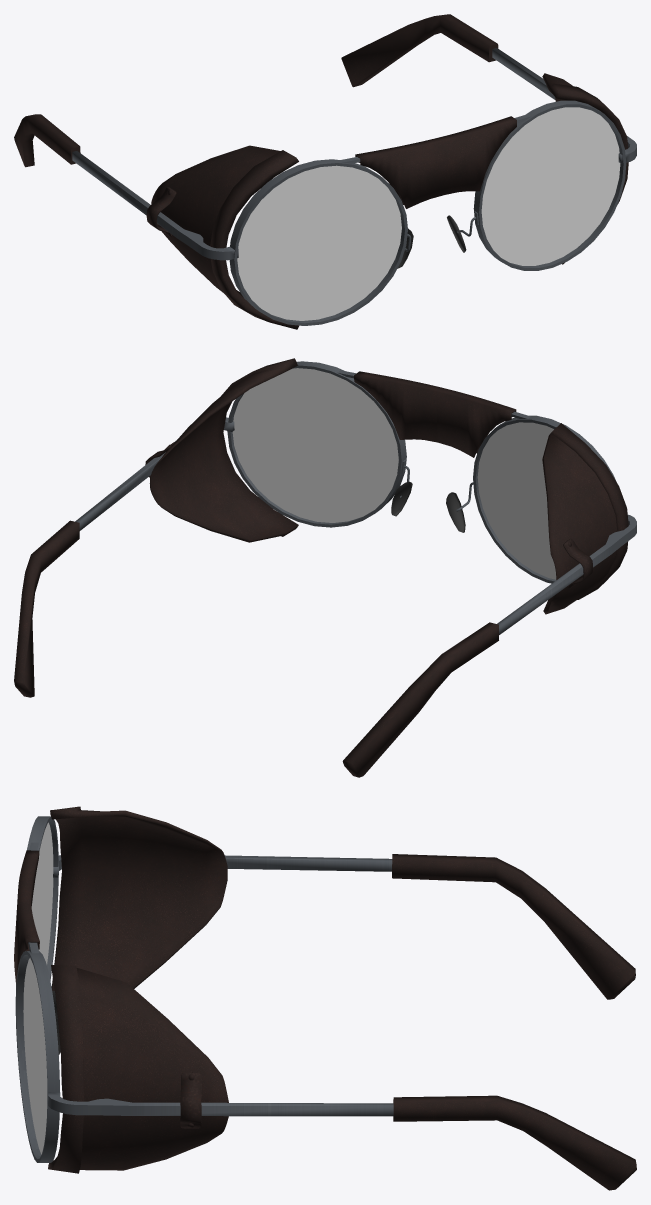
The model's file is glasses_1.glb.
3 renders of one model, top to bottom at view 1: azimuth 30°, elevation 25°; view 2: azimuth 150°, elevation 25°; view 3: azimuth 270°, elevation 25°, orthographic. The views are drawn at different scales.
Visible parts, largest first — view 1: glasses_1; view 2: glasses_1; view 3: glasses_1.
Boxes of the visible parts, x1=… form: glasses_1: x1=14, y1=14, x2=636, y2=329; glasses_1: x1=14, y1=358, x2=636, y2=777; glasses_1: x1=14, y1=806, x2=636, y2=1190.
Bounding box in the file's own units: 4.96 × 1.87 × 5.12.
4 materials, 2 textured.
